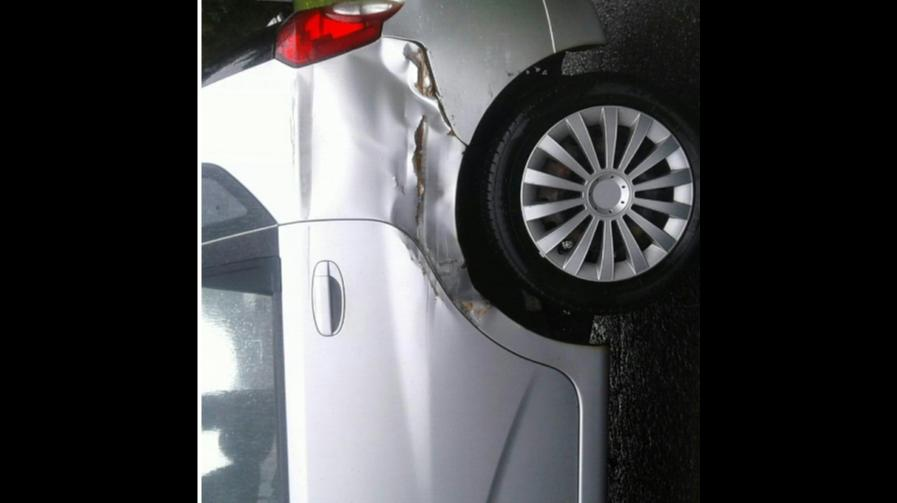Broken part: (377, 31, 471, 147)
Corrosion: (410, 113, 426, 225), (406, 46, 437, 100), (476, 302, 492, 317), (458, 299, 474, 311), (428, 281, 439, 294), (444, 128, 457, 137), (458, 260, 467, 270)
Dent: (323, 35, 519, 332), (396, 231, 453, 332), (438, 5, 443, 9), (461, 60, 464, 64), (482, 58, 485, 62), (463, 91, 466, 94), (451, 91, 454, 94), (447, 37, 449, 40), (431, 22, 433, 24), (426, 18, 428, 20), (418, 15, 420, 17), (418, 23, 420, 25), (406, 10, 407, 11), (418, 31, 419, 32)
Scratch: (396, 237, 451, 310), (409, 115, 426, 229), (400, 50, 432, 98), (435, 258, 457, 266), (426, 284, 429, 340), (487, 81, 492, 98), (506, 69, 515, 76), (392, 176, 398, 186), (450, 114, 455, 125), (401, 184, 405, 196)
